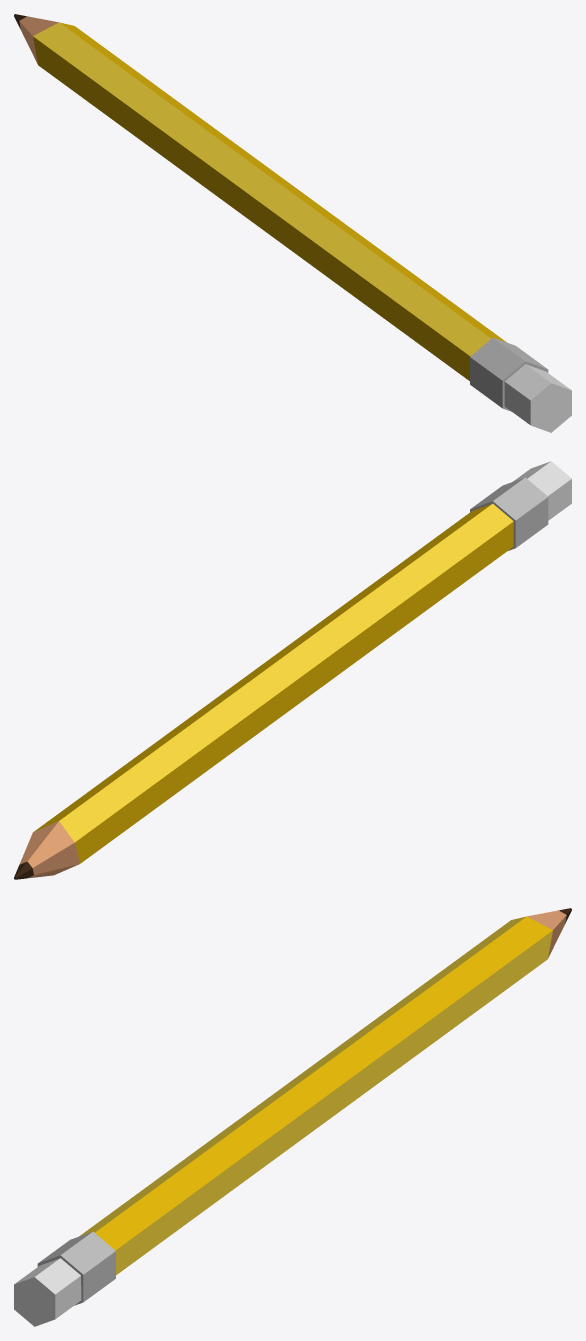
File: PencilV1.fbx
The picture shows the model from 3 angles, top to bottom: view 1: azimuth 30°, elevation 25°; view 2: azimuth 150°, elevation 25°; view 3: azimuth 330°, elevation 25°; orthographic projection.
Parts seen in each view (by area): view 1: PencilV1; view 2: PencilV1; view 3: PencilV1.
Boxes of the visible parts, x1,y1,x2,y2 form: PencilV1: (14,14,571,432); PencilV1: (14,461,571,879); PencilV1: (14,908,571,1326).
Size of the model in its own units: 0.5054 by 0.583 by 10.23.
